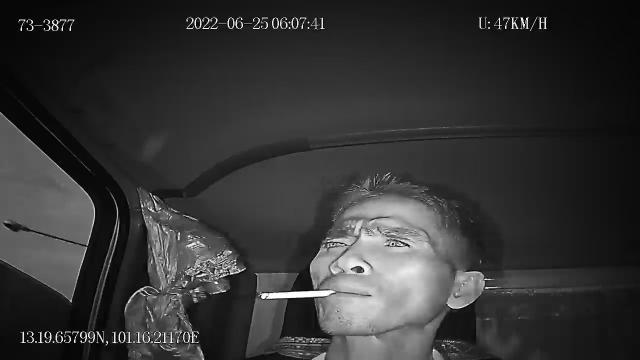SafeDriving: (374, 230, 416, 252)
Smoking: (256, 288, 338, 302)
